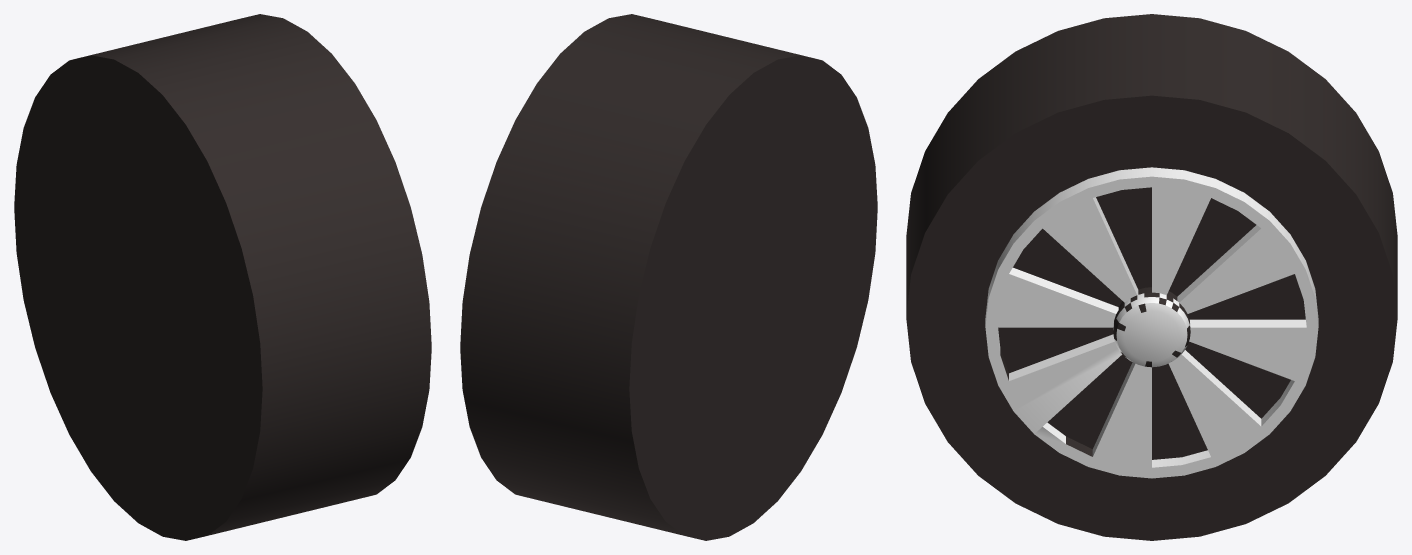
The model's file is CarritoLlanta.obj.
The picture shows the model from 3 angles, left to right: view 1: azimuth 30°, elevation 25°; view 2: azimuth 150°, elevation 25°; view 3: azimuth 270°, elevation 25°; orthographic projection.
Parts seen in each view (by area): view 1: Cube.004; view 2: Cube.004; view 3: Cube.004.
Boxes of the visible parts, <box> form: Cube.004: <box>14,14,431,540</box>; Cube.004: <box>460,14,877,540</box>; Cube.004: <box>906,14,1397,540</box>.
Size of the model in its own units: 0.2214 by 0.4611 by 0.4611.
